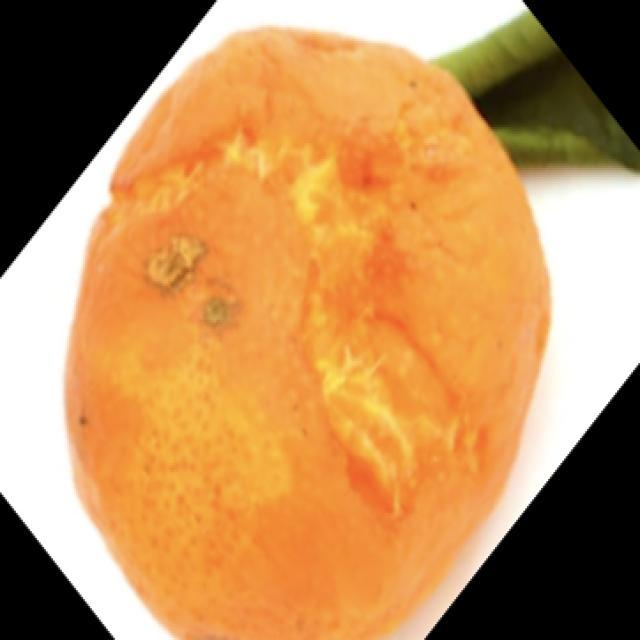sedikit-busuk: (66, 28, 550, 639)
